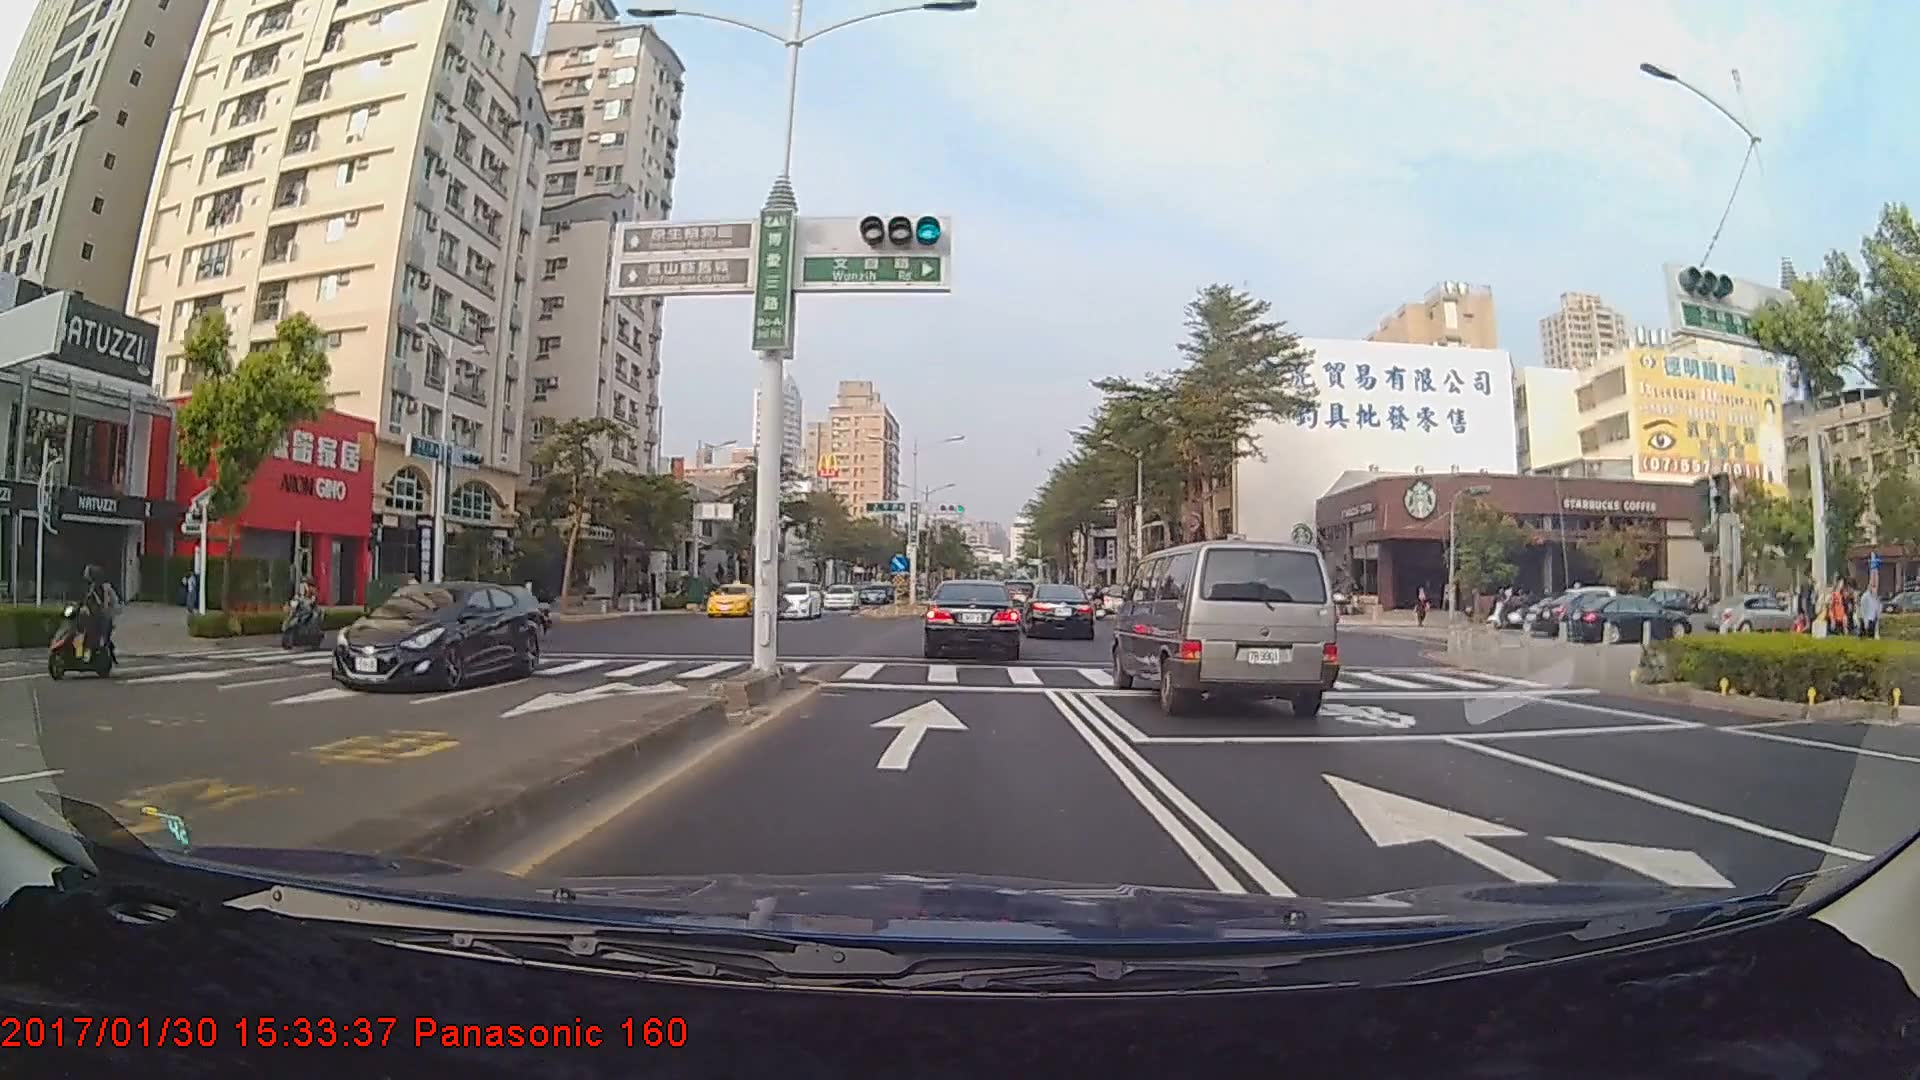pedestrian: (1795, 566, 1822, 657), (1822, 577, 1846, 652), (1860, 581, 1880, 648)
rider: (37, 561, 132, 679), (279, 578, 333, 657), (1483, 583, 1532, 629)
vehicle: (1118, 538, 1338, 716), (329, 580, 544, 691), (920, 580, 1022, 658), (1573, 586, 1703, 646), (1707, 591, 1805, 641), (1022, 582, 1095, 640), (765, 580, 823, 621), (704, 579, 762, 617), (819, 583, 857, 611)
